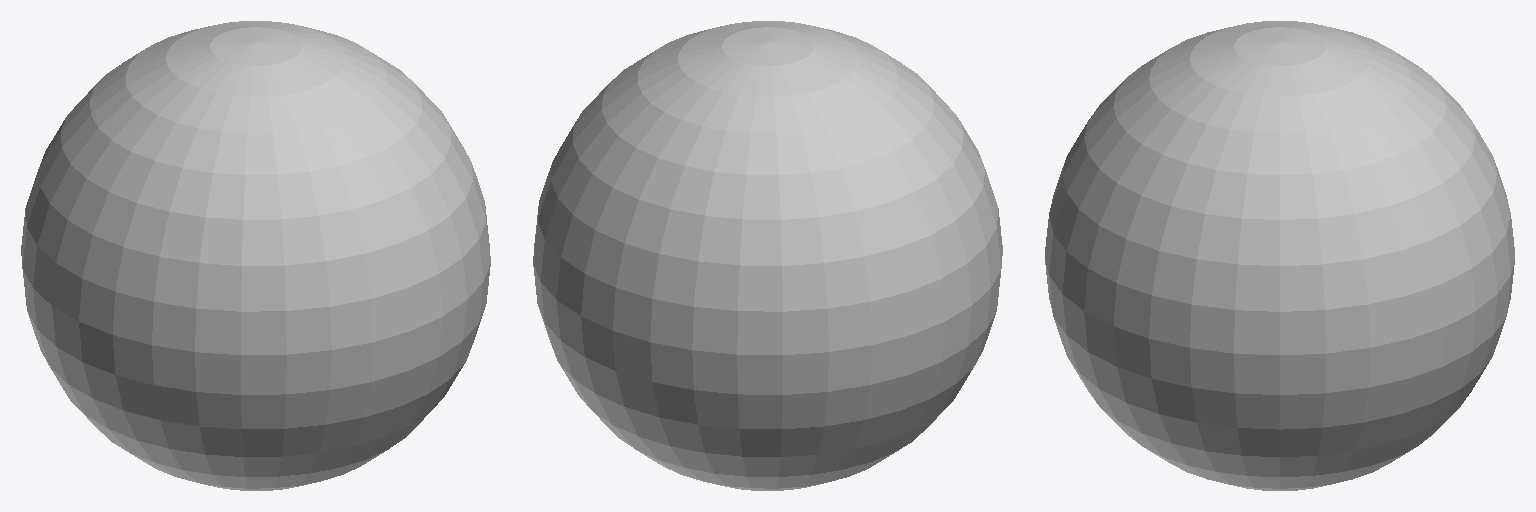
The model's file is mercury.obj.
3 views of the same model, side by side, from view 1: azimuth 30°, elevation 25°; view 2: azimuth 150°, elevation 25°; view 3: azimuth 270°, elevation 25° (orthographic).
Parts seen in each view (by area): view 1: Сфера; view 2: Сфера; view 3: Сфера.
Part boxes in pixels (bbox=[...]): Сфера: bbox=[21, 21, 490, 490]; Сфера: bbox=[533, 21, 1002, 490]; Сфера: bbox=[1045, 21, 1514, 490].
Bounding box in the file's own units: 0.1647 × 0.1647 × 0.1647.